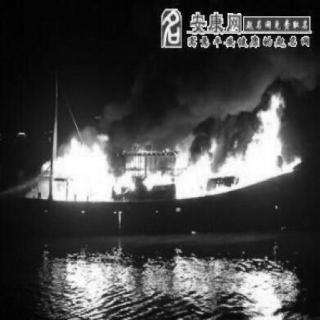Fire: (48, 94, 300, 200)
